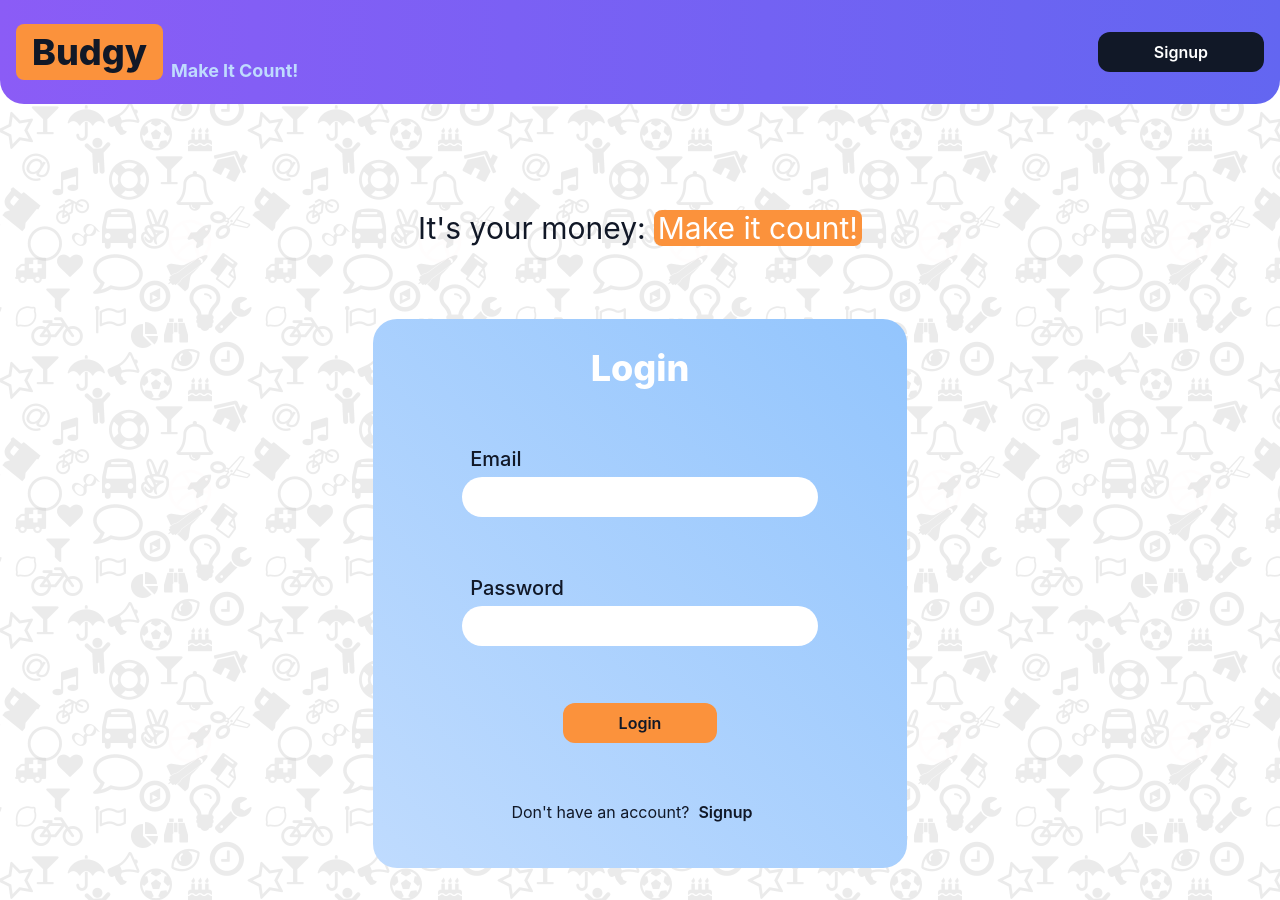
Scenario: App › Redirects to the signup page
What coordinates should you click on to do the following:
click the link "Signup" next to "Don't have an account?"
I would click on:
 (726, 812)
Its box is [698,802,753,822].
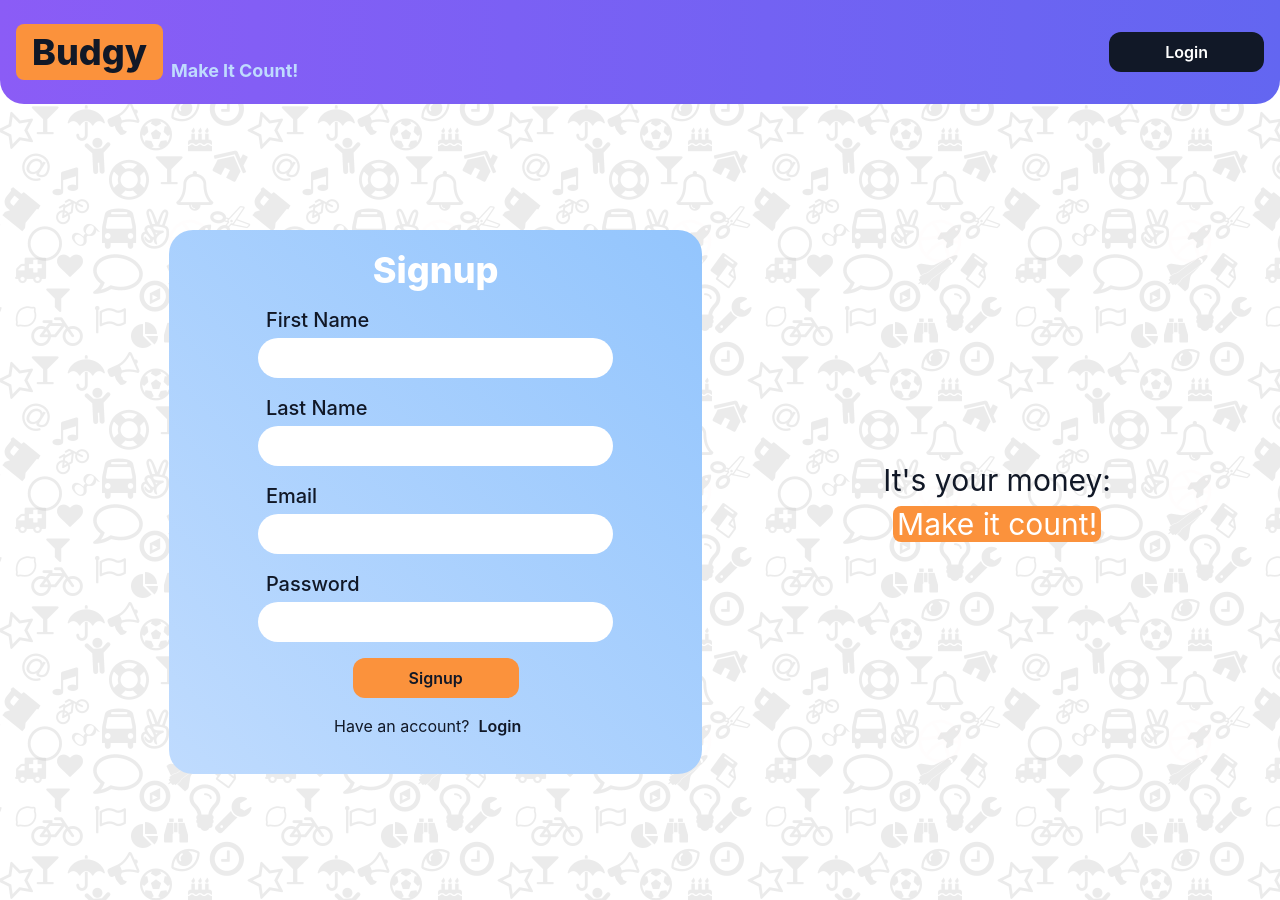
expect the text "first Name" is shown: met, box [266,308,369,332]
